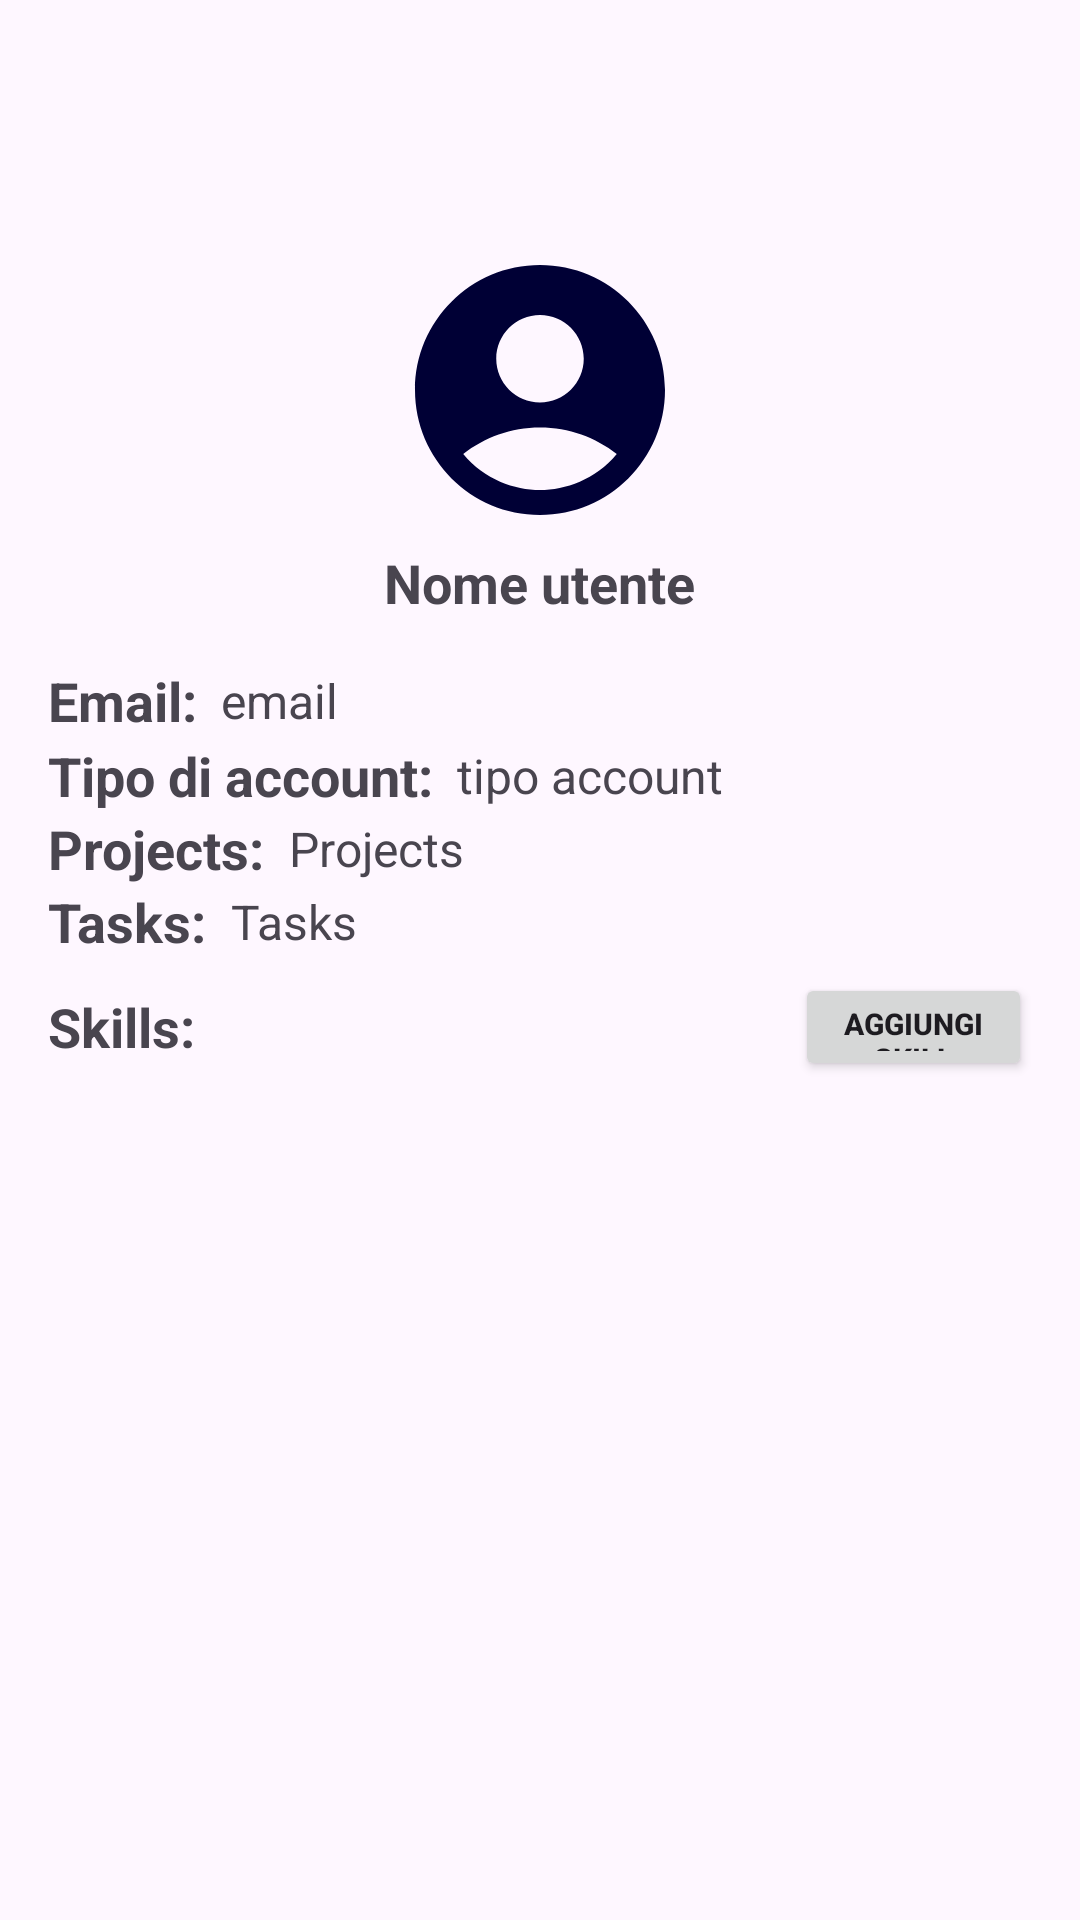

Named icons in this screenshot (1080×1920) and their centers, (x=x, y=y):
id account fragment: (x=540, y=390)
